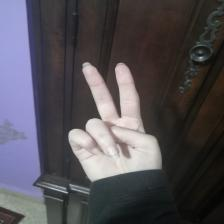two: (67, 62, 167, 174)
